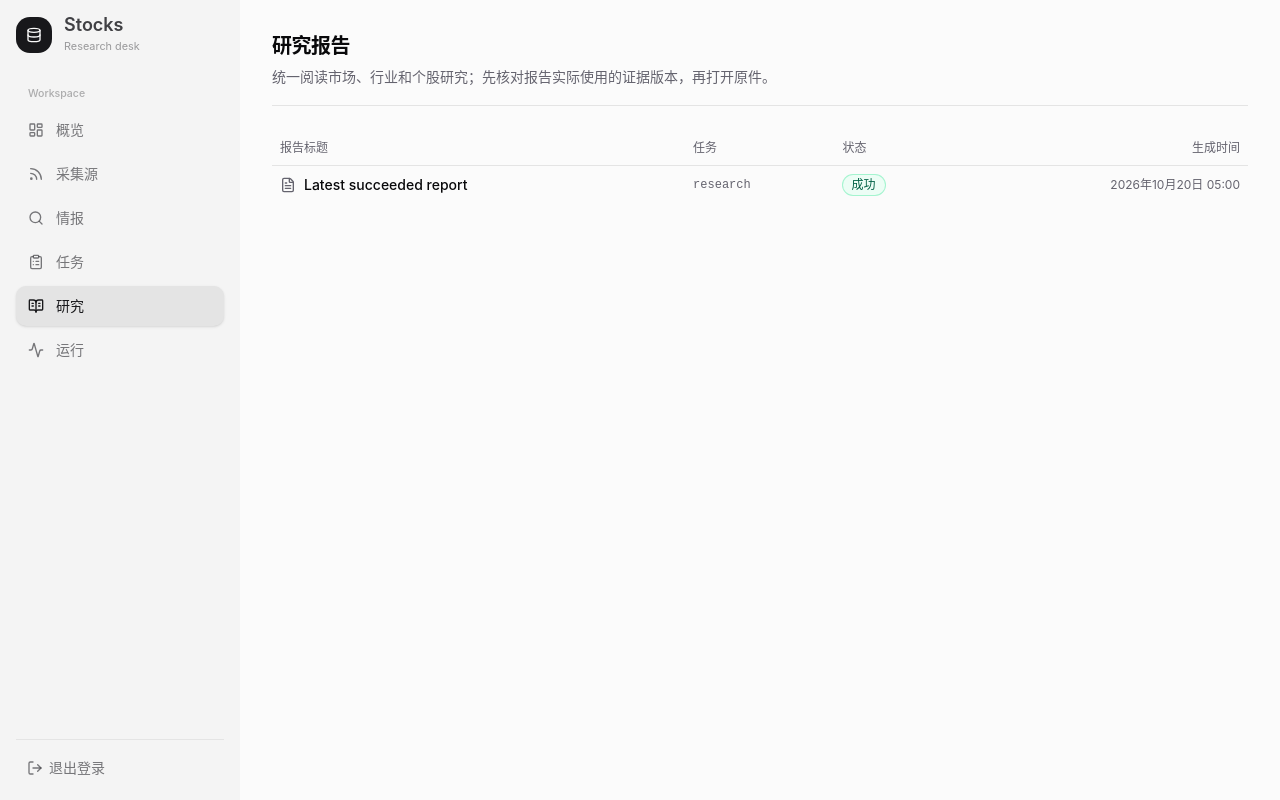
ResearchPage list › navigates when clicking anywhere in the row
This screenshot has width=1280, height=800.
Click the text "research": click(722, 185) [685,166,834,203]
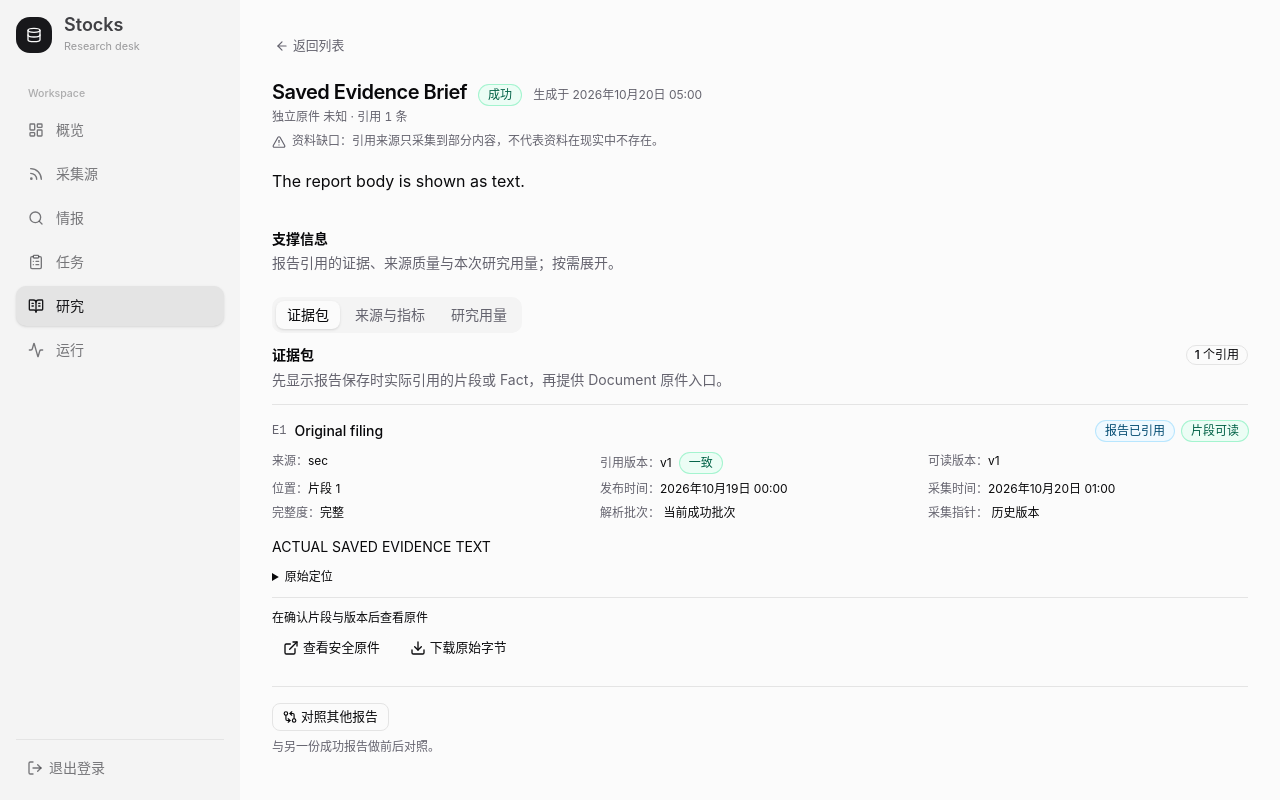
Now the text "The report body is shown as text." is shown, box [272,171,525,191]
